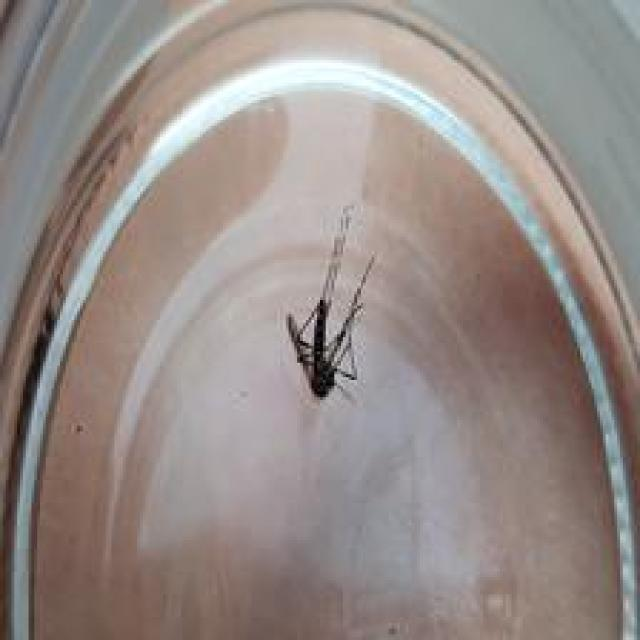Aedes albopictus: (284, 203, 376, 403)
